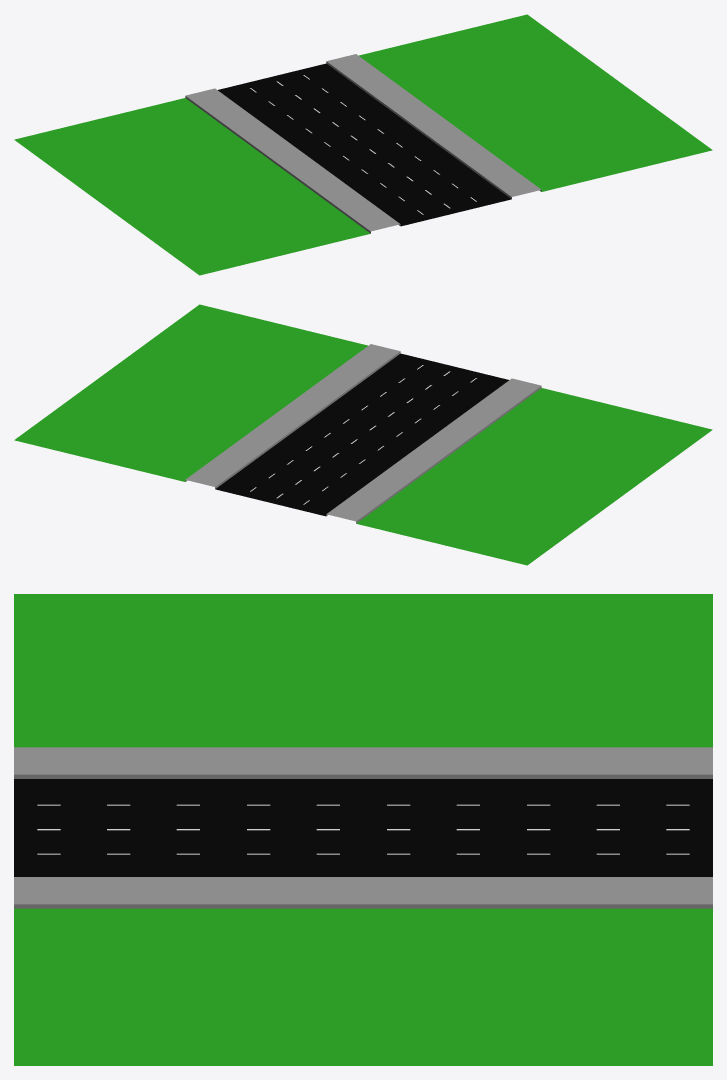
Rendered from DrogaMiasto2.fbx.
3 renders of one model, top to bottom at view 1: azimuth 30°, elevation 25°; view 2: azimuth 150°, elevation 25°; view 3: azimuth 270°, elevation 25°, orthographic. The views are drawn at different scales.
Parts seen in each view (by area): view 1: DrogaMiasto; view 2: DrogaMiasto; view 3: DrogaMiasto.
Boxes of the visible parts, x1,y1,x2,y2 form: DrogaMiasto: (14,14,712,275); DrogaMiasto: (14,304,712,565); DrogaMiasto: (14,594,712,1065).
Size of the model in its own units: 4790 by 20 by 3000.
